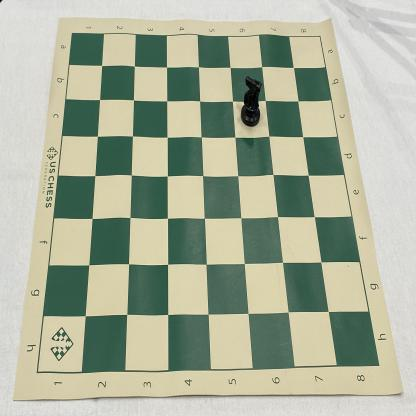black-knight: (240, 75, 262, 129)
